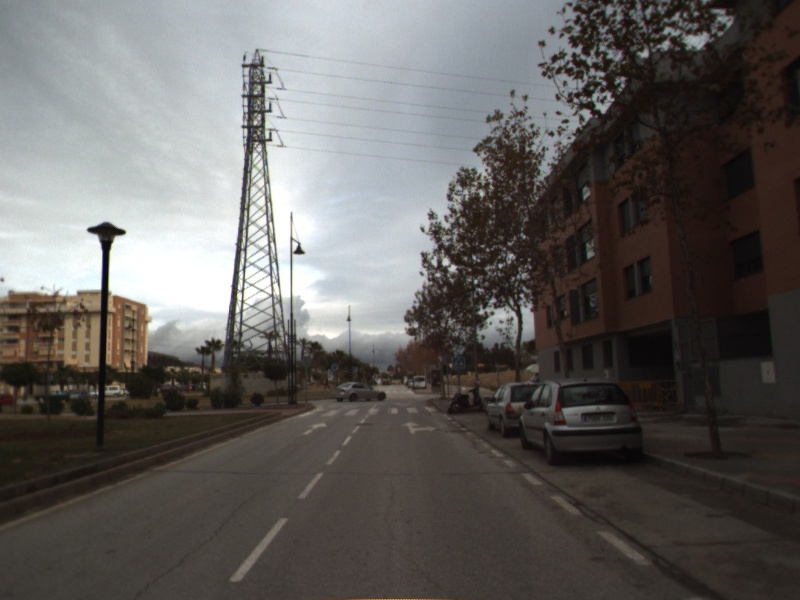STRAIGHT: (300, 420, 329, 437)
STRAIGHT_RIGHT: (398, 419, 438, 435)
